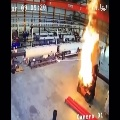fire: (78, 0, 99, 87)
